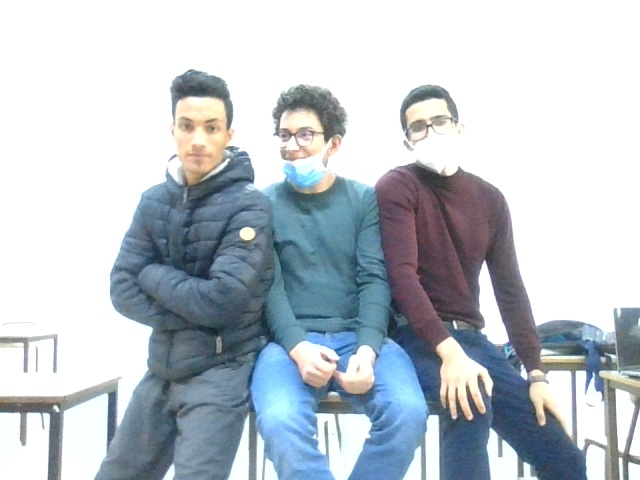mask_weared_incorrect: (271, 92, 349, 188), (397, 89, 476, 173)
without_mask: (165, 69, 244, 173)
